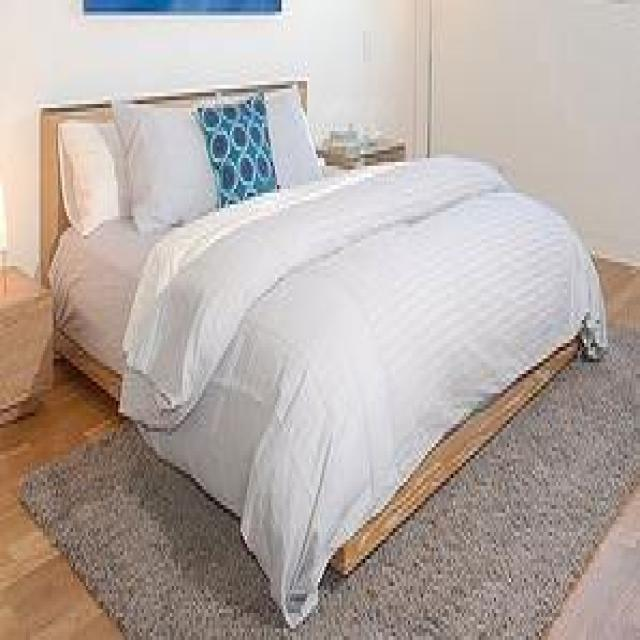bed: (40, 77, 604, 590)
